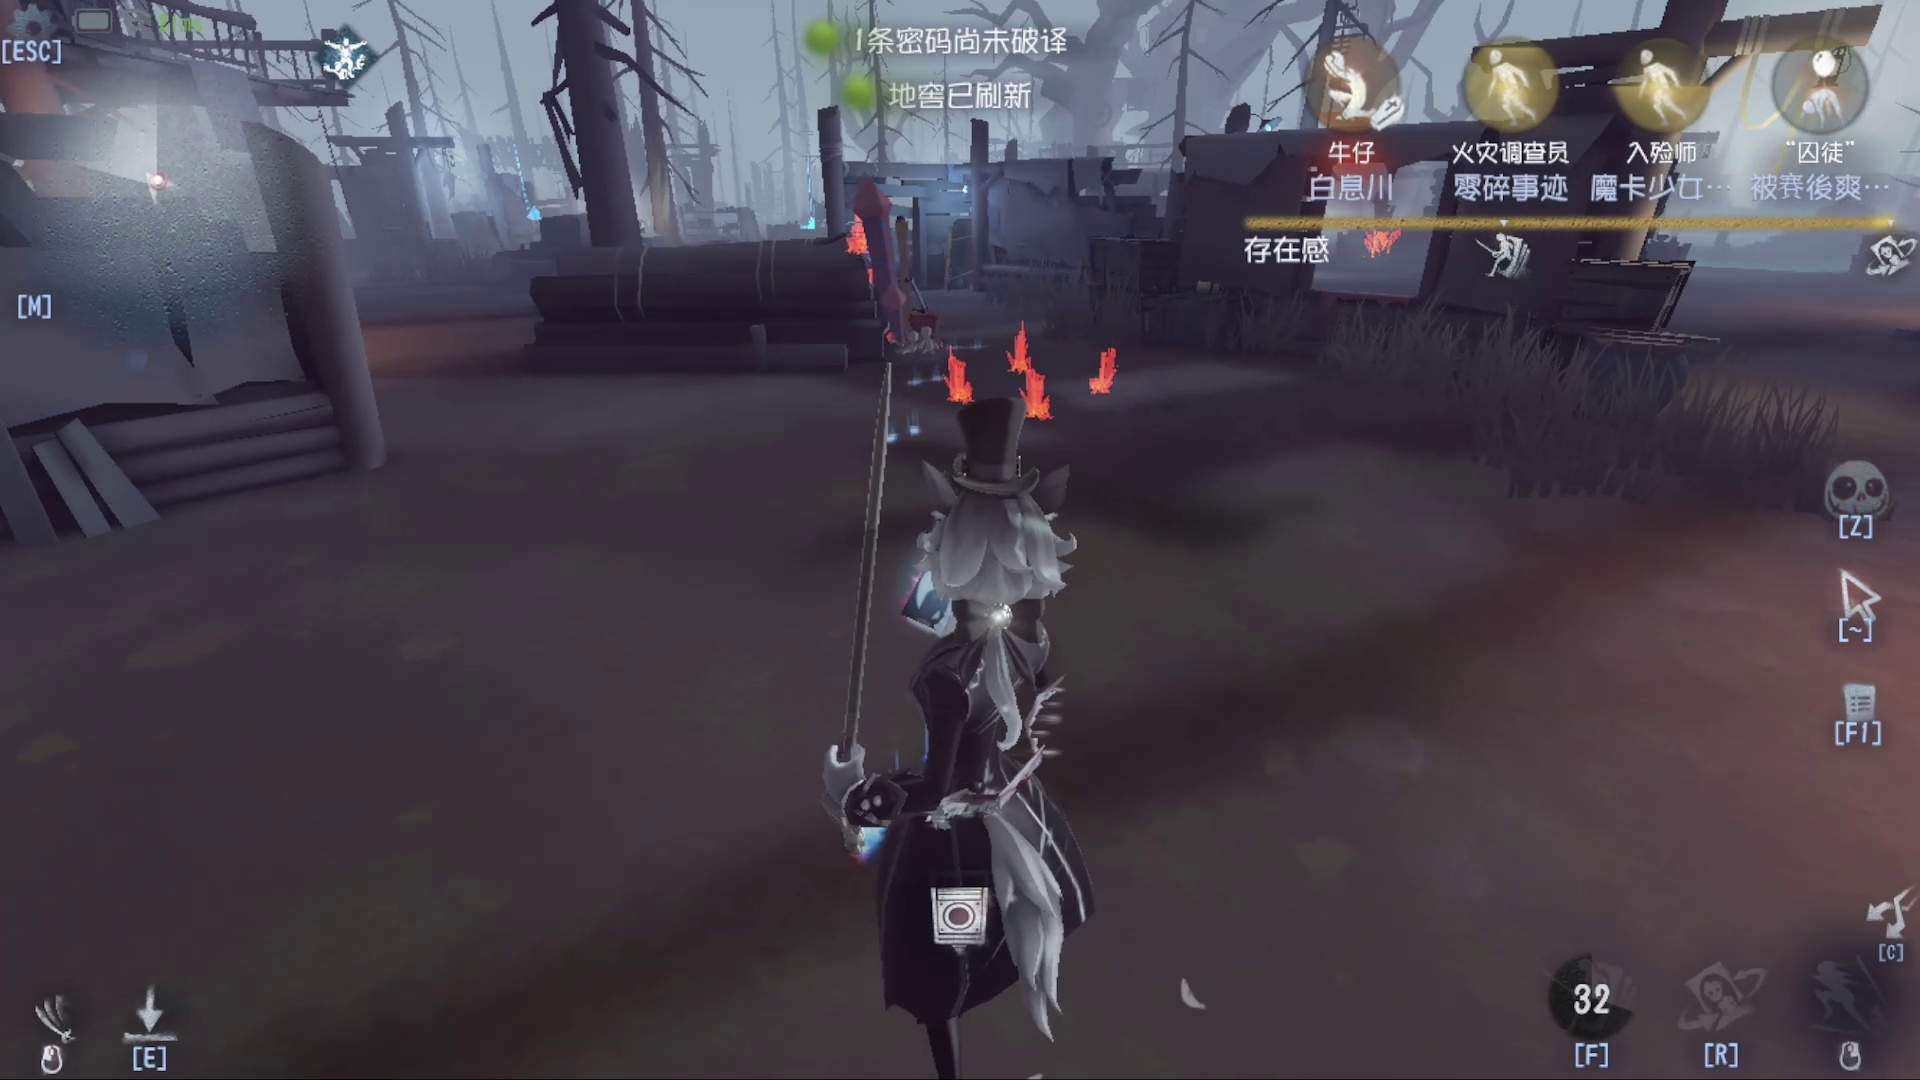狂欢之椅: (843, 182, 955, 357), (992, 309, 1048, 377)
